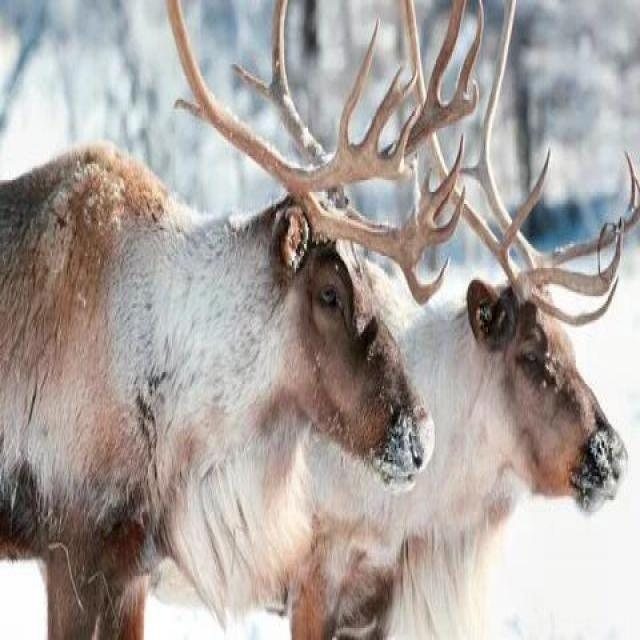deer: (0, 51, 402, 580), (370, 217, 636, 634)
